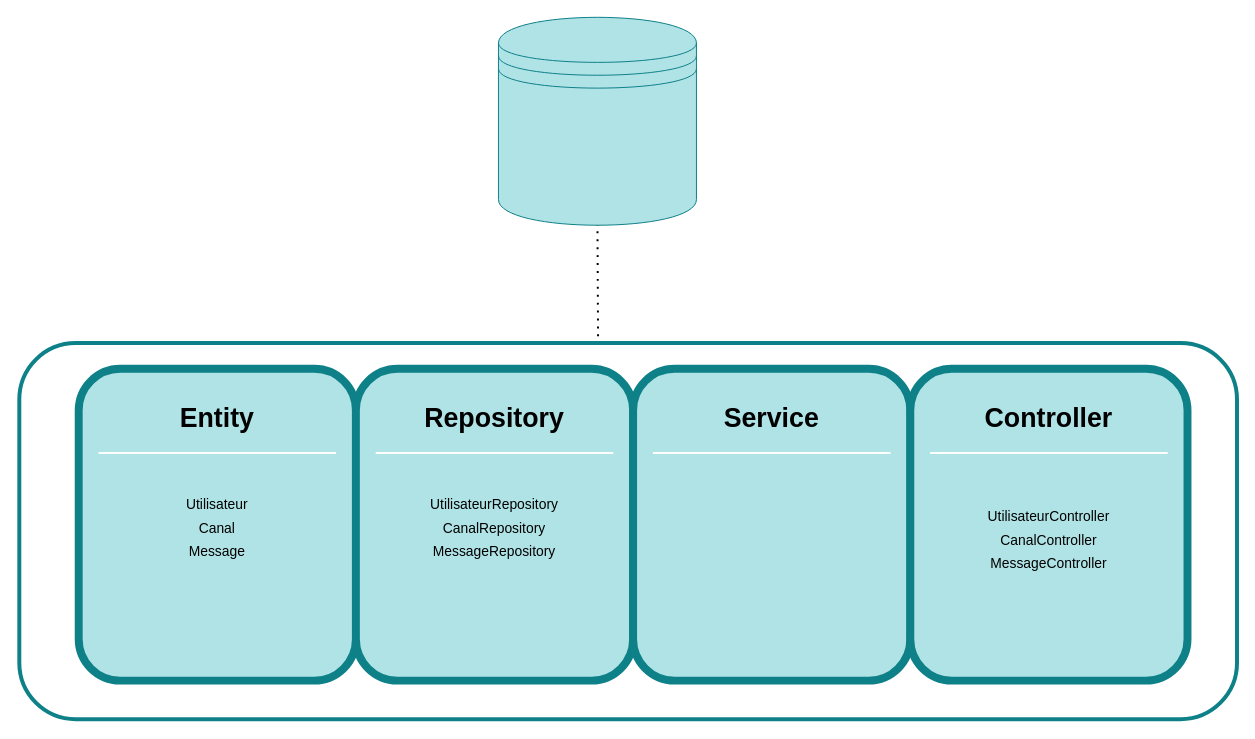
Some shapes in this 1255 by 739 pixel diagram are drawn without their labels. The shapes that lost their labels are listed below. From the top down, each one's box as (x1, y1, x2, y2) in pixels, then its label:
(497, 16, 696, 225): ChatFlow
(629, 364, 914, 684): UtilisateurService CanalService MessageService
